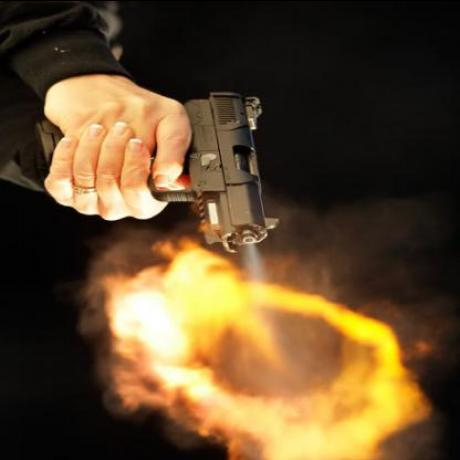1: (0, 0, 188, 221)
weapon: (116, 90, 279, 252)
